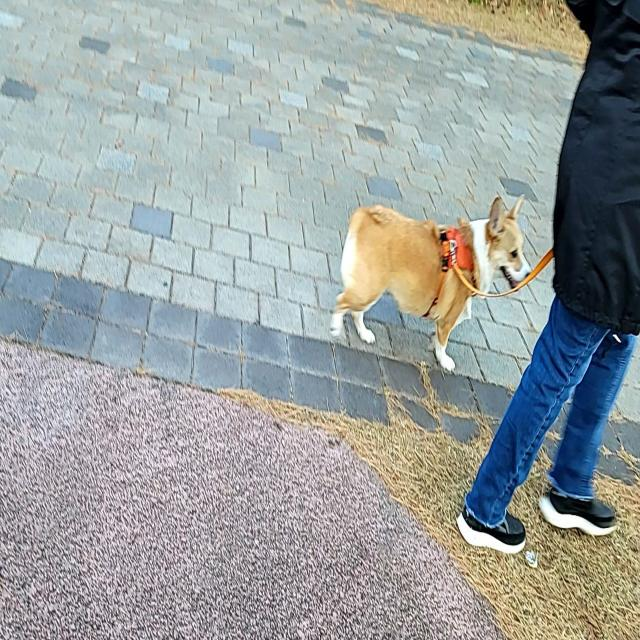Leashed_Dog: (330, 172, 618, 373)
